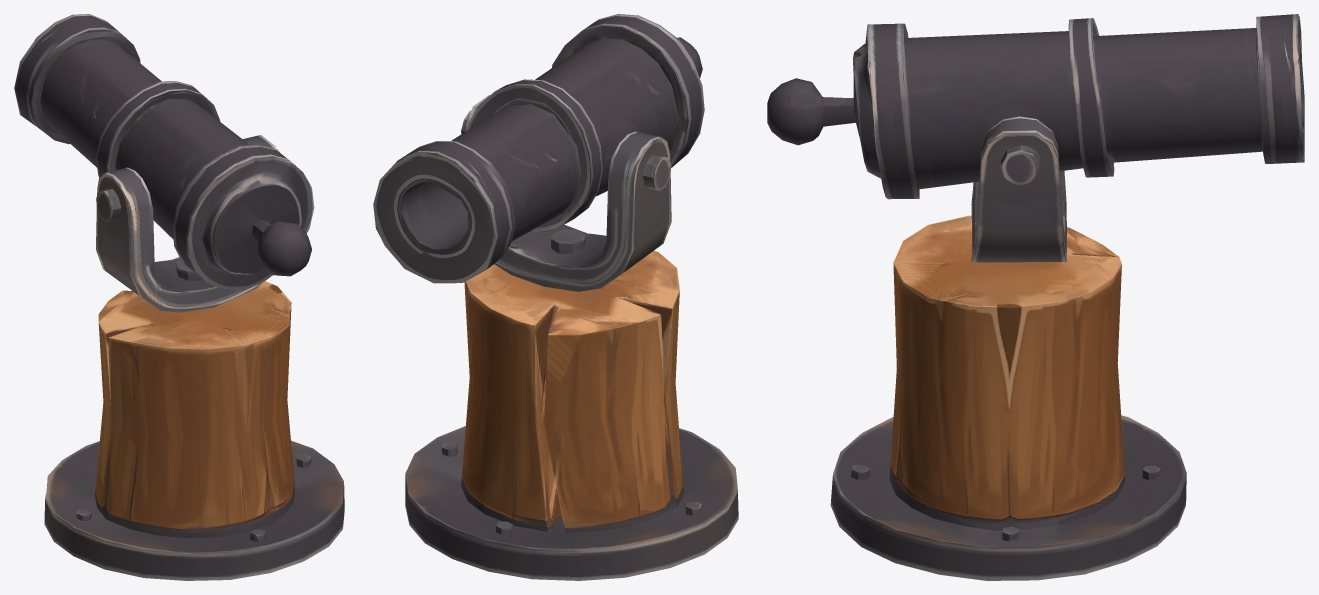
Rendered from cannon-b-1000.glb.
3 renders of one model, left to right at view 1: azimuth 30°, elevation 25°; view 2: azimuth 150°, elevation 25°; view 3: azimuth 270°, elevation 25°, orthographic. The views are drawn at different scales.
Parts seen in each view (by area): view 1: mount, barrel; view 2: mount, barrel; view 3: mount, barrel.
Boxes of the visible parts, left/top/right/bottom form: mount: left=44, top=135, right=344, bottom=580; barrel: left=14, top=14, right=314, bottom=289; mount: left=405, top=95, right=738, bottom=580; barrel: left=373, top=14, right=704, bottom=283; mount: left=830, top=116, right=1186, bottom=580; barrel: left=767, top=14, right=1304, bottom=199.
Size of the model in its own units: 0.661 by 0.9988 by 1.
1 material, 1 textured.
